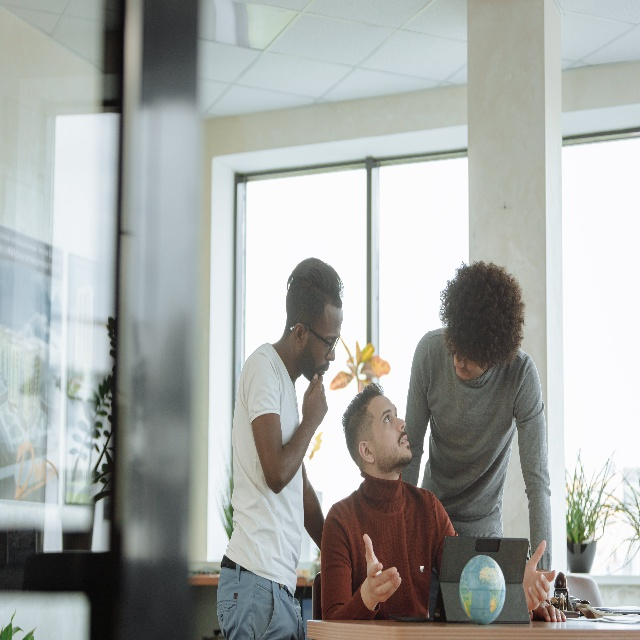Gafas: (289, 322, 341, 355)
Sin_guantes: (362, 531, 402, 605), (521, 542, 556, 610), (301, 373, 329, 428), (529, 594, 566, 624)
